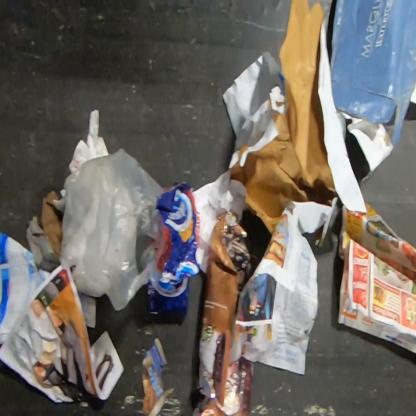cardboard: (228, 0, 369, 249), (330, 0, 415, 187), (146, 179, 203, 317), (40, 190, 62, 257)
soft_plastic: (54, 146, 168, 312), (68, 109, 109, 173)
